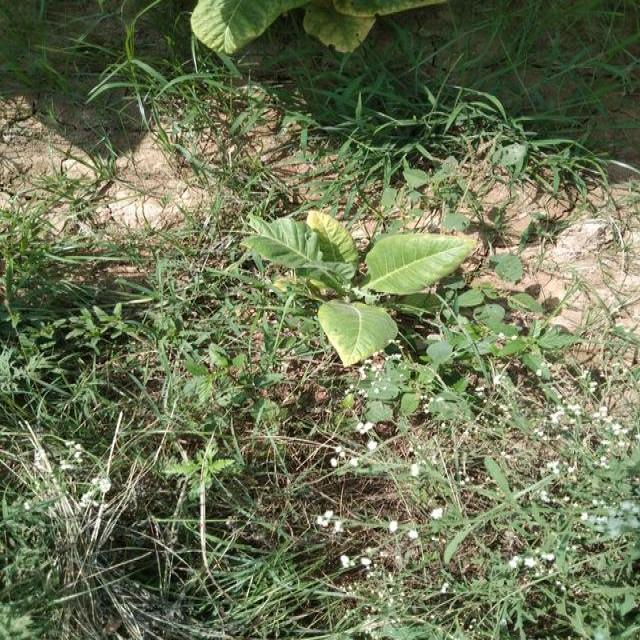crop: (268, 204, 472, 360), (185, 0, 313, 54)
